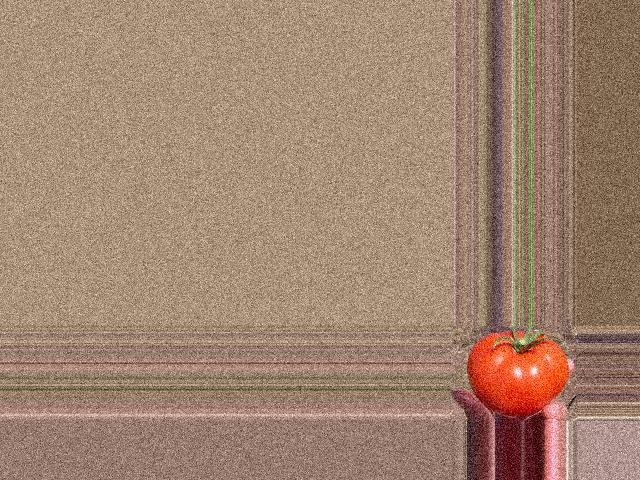tomato: (469, 331, 568, 417)
